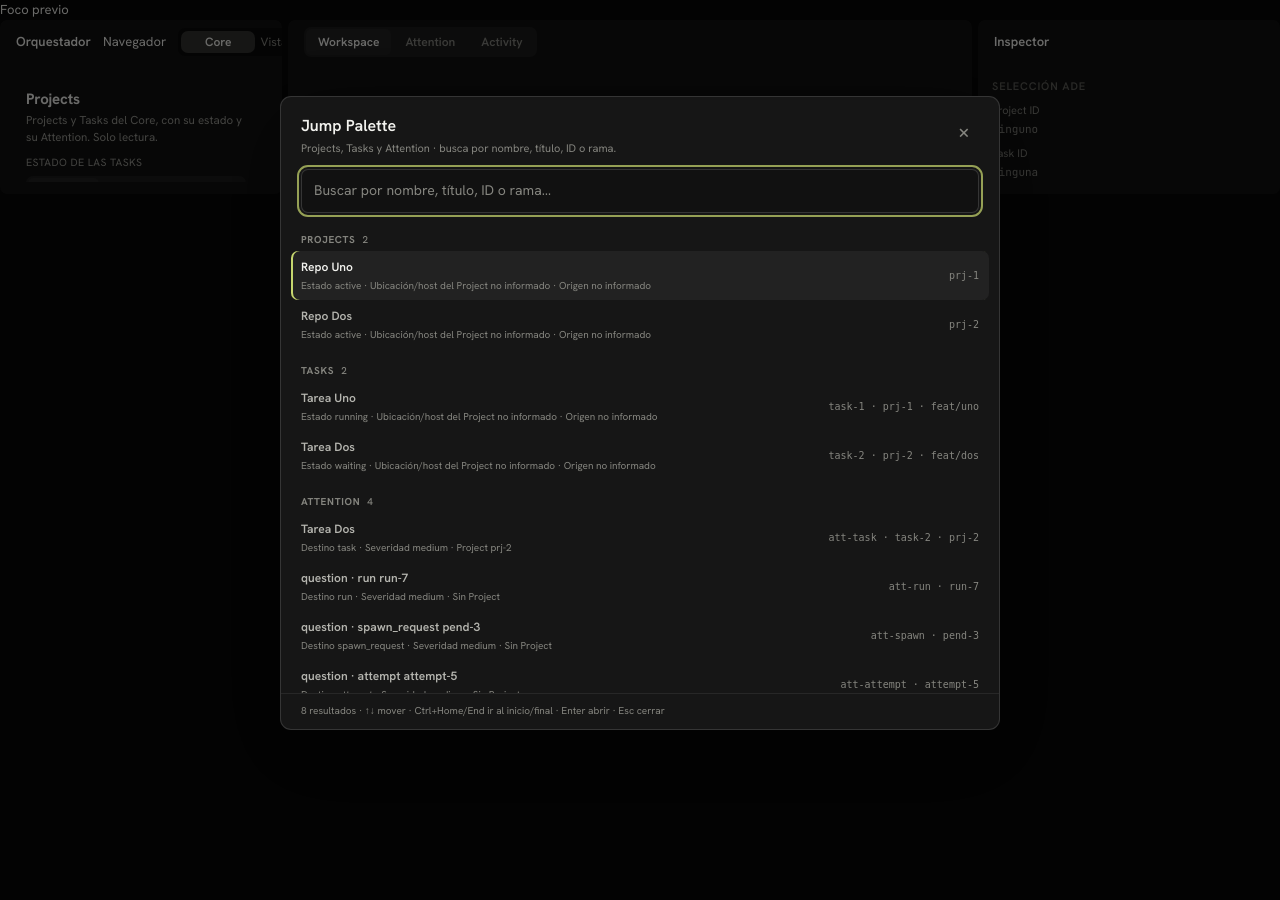
Test: AdeShell · Jump Palette (LXO-102) › si la ruta de Run ya no existe, mantiene la paleta con un aviso y no cae a otro destino
This screenshot has width=1280, height=900.
Expected: the option "Repo Uno" is shown, [291,250,989,300]
Type "att-run" into the dropdown named "Buscar Projects, Tasks y Attention".
click(640, 190); type("att-run")  # box [301,168,979,212]
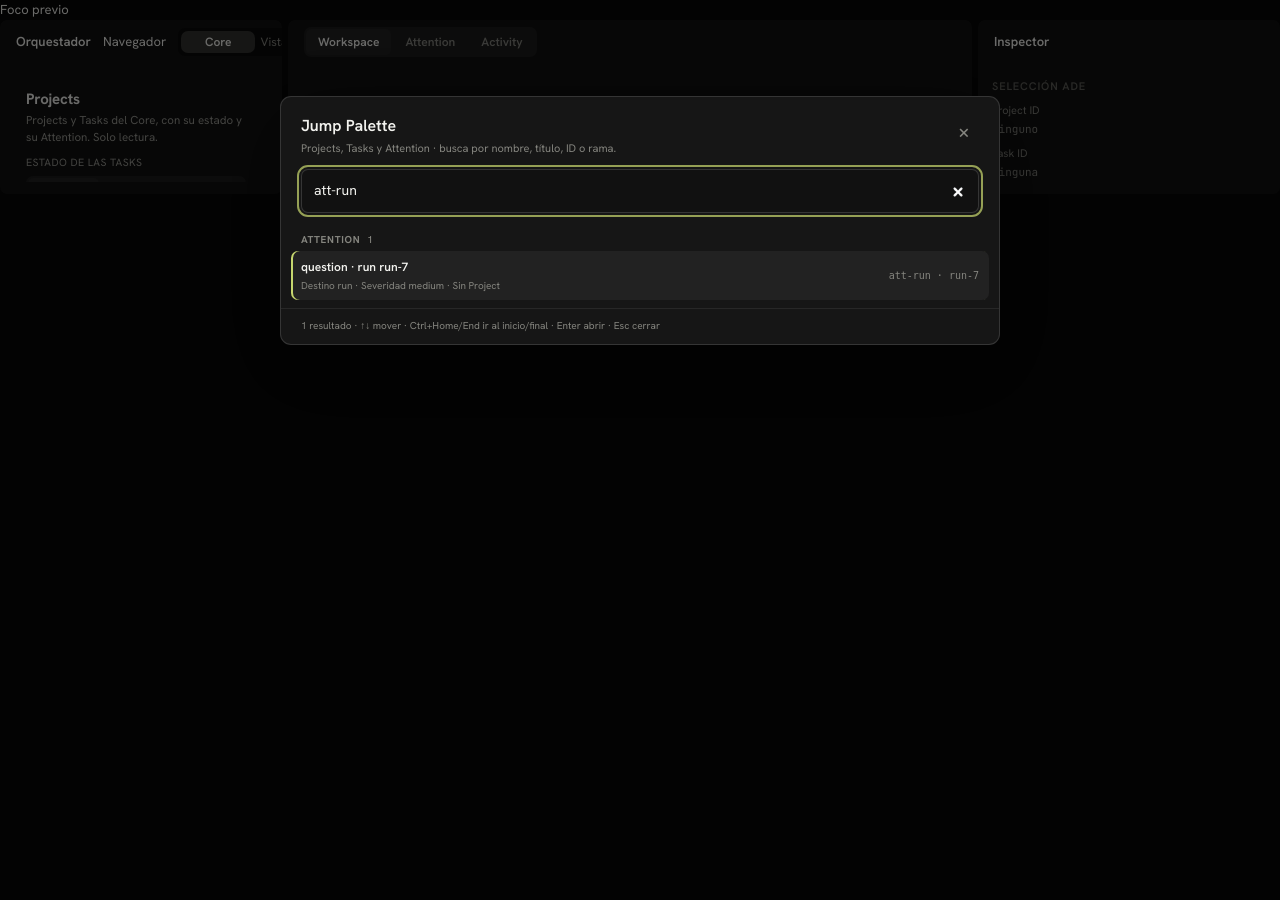
Click the option.
click(355, 267)  # box [291,250,989,300]
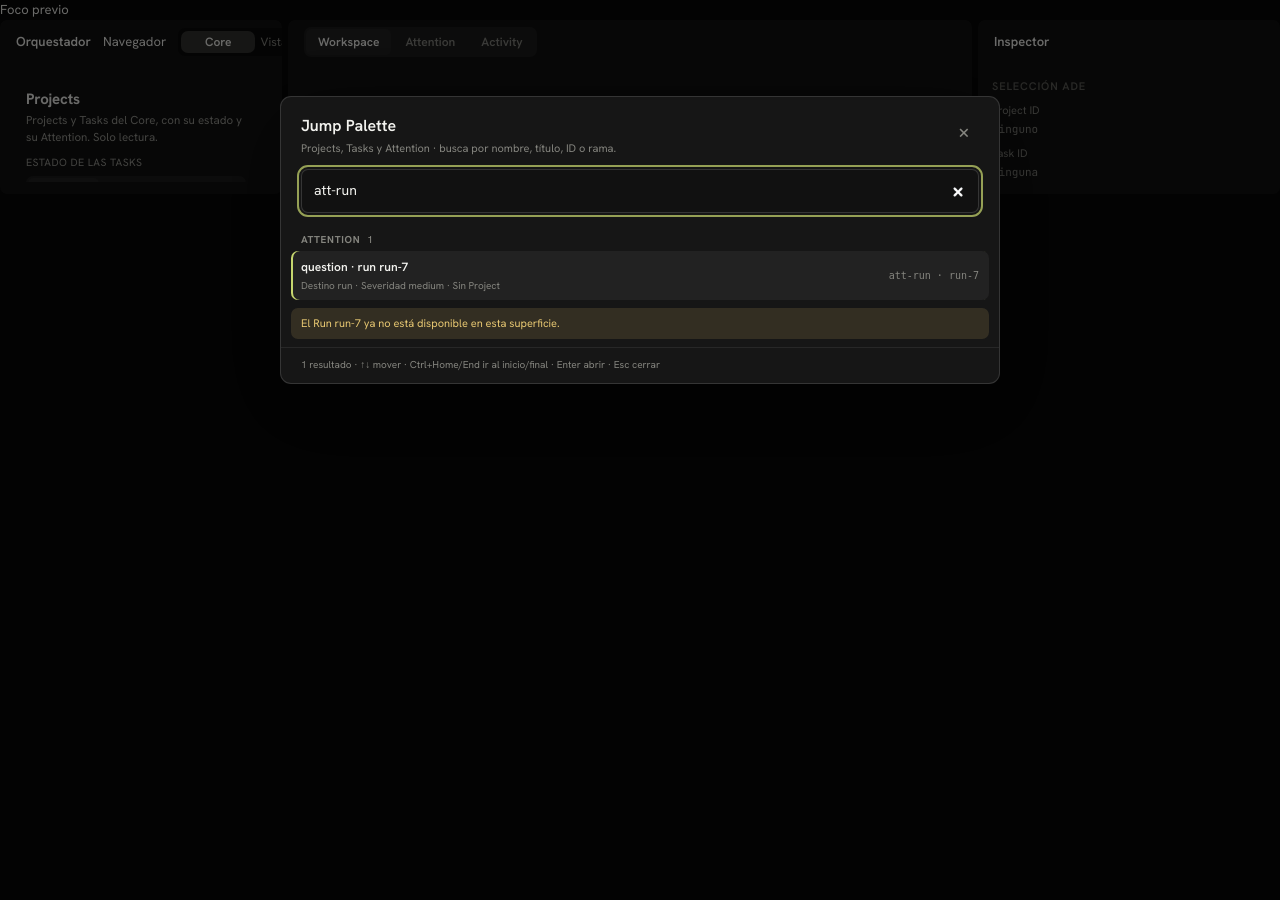
Expected: the dialog is shown, [280,96,1000,384]
Now the message "El Run run-7 ya no está disponible en esta superficie." is shown, box [291,308,989,339]
